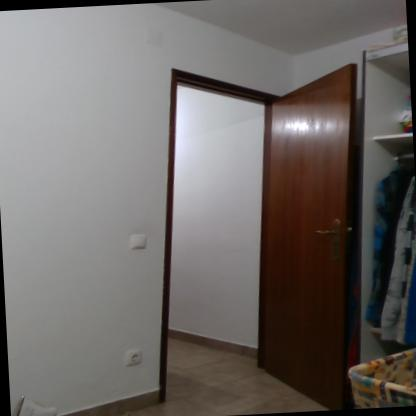open: (145, 51, 383, 406)
